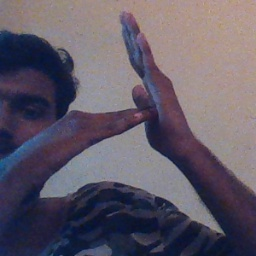Z: (81, 4, 189, 165)
